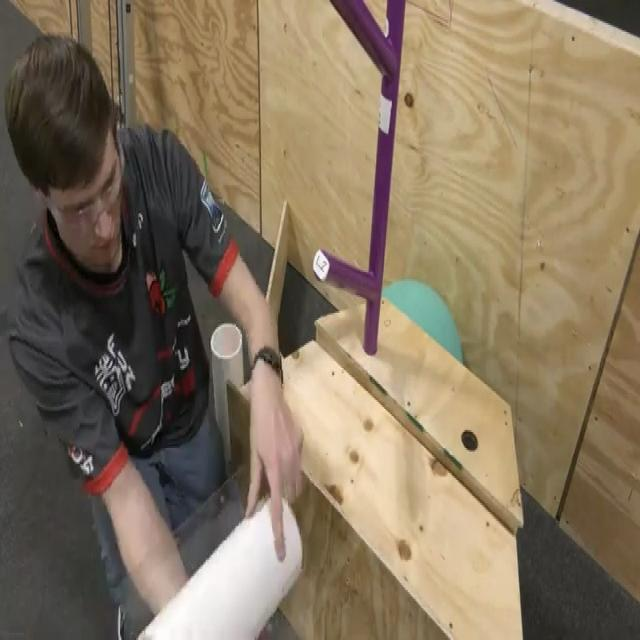Coral: (135, 491, 304, 638), (210, 324, 246, 462)
